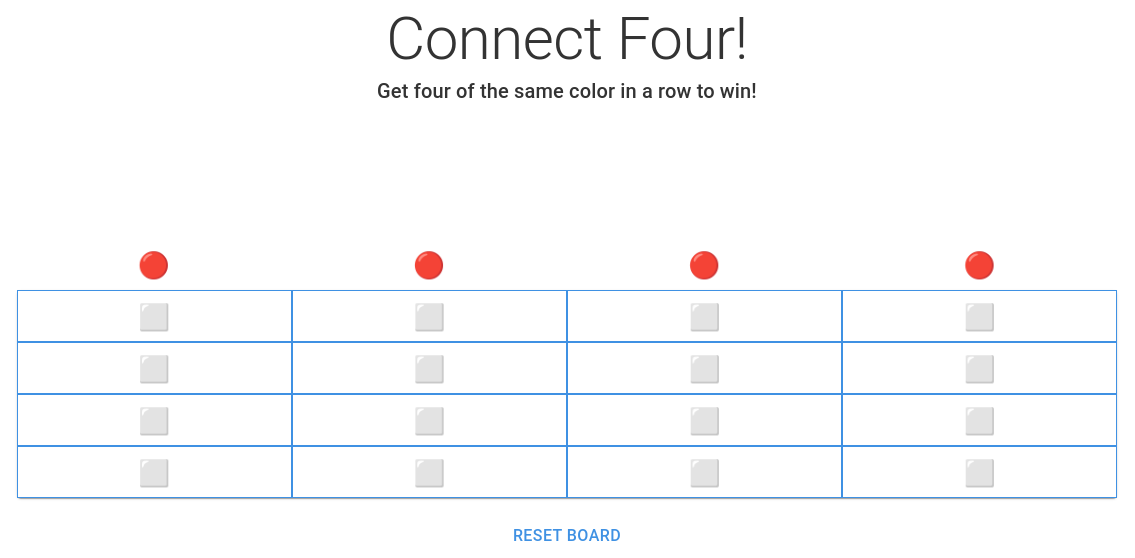
Test: App › disables drop buttons in full columns
The image size is (1135, 558).
Click the 1st button "🔴" at (154, 265), box [17, 240, 292, 290]
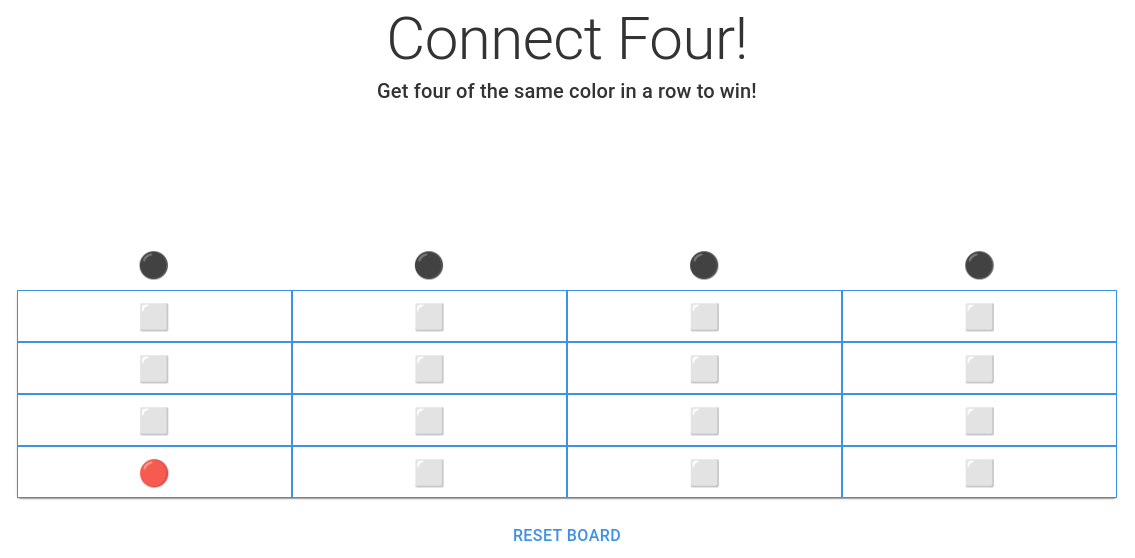
Click the 1st button "⚫" at (154, 265), box [17, 240, 292, 290]
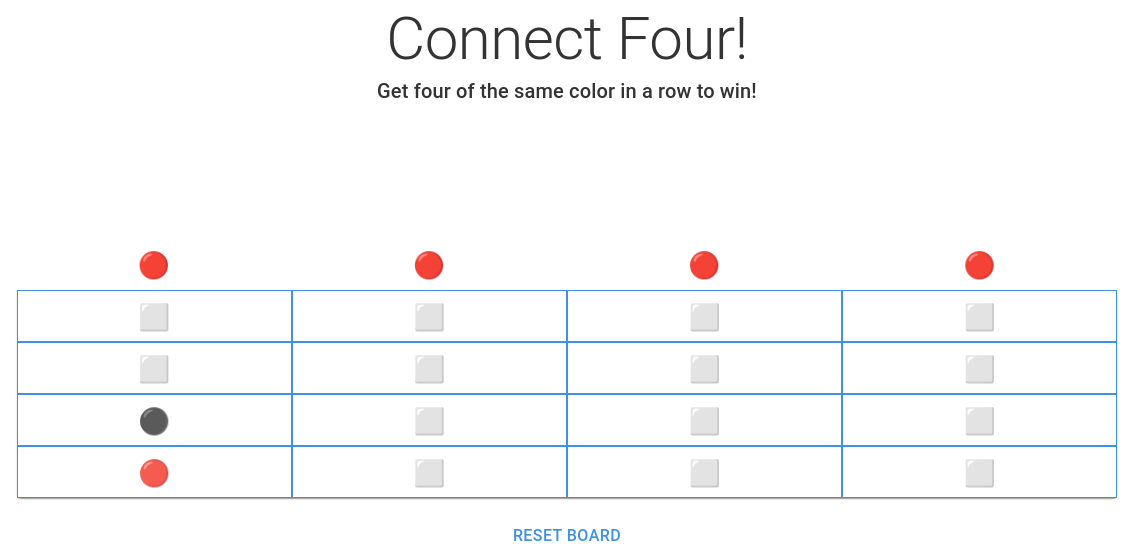
Click the 1st button "🔴" at (154, 265), box [17, 240, 292, 290]
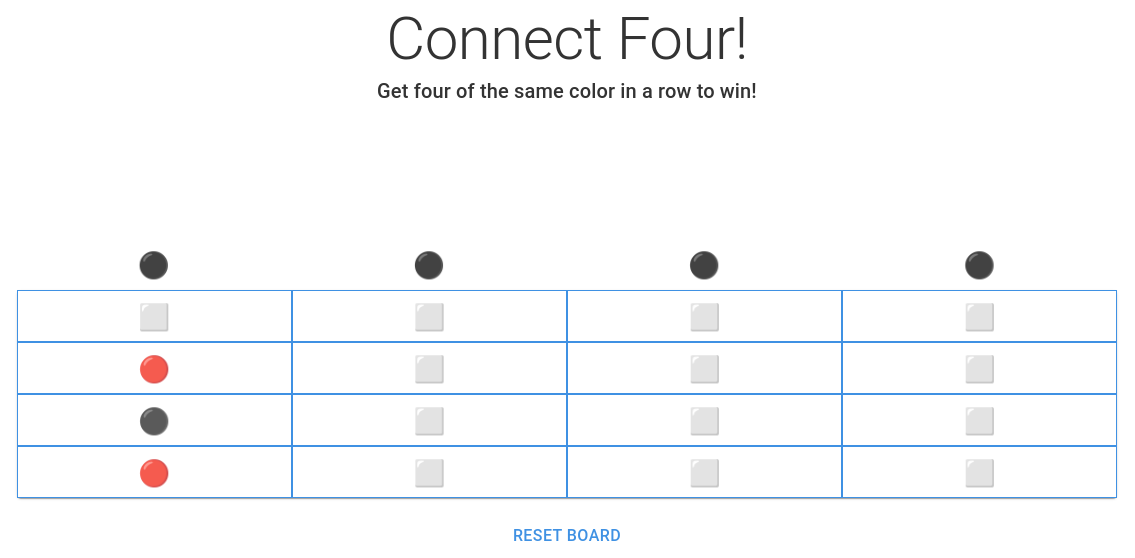
Click the 1st button "⚫" at (154, 265), box [17, 240, 292, 290]
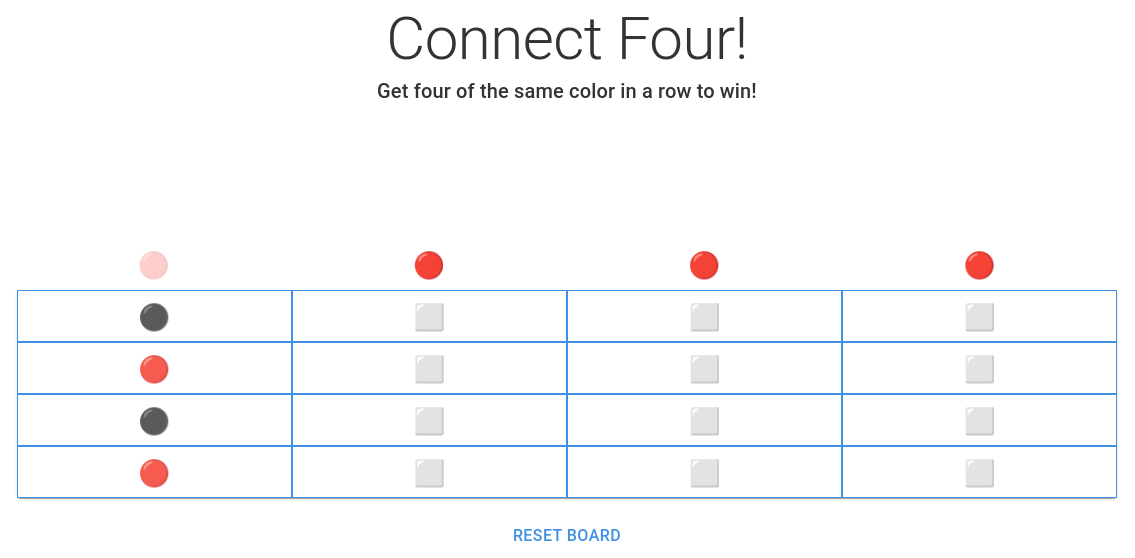
Expected: the 1st button "🔴" is disabled, [17, 240, 292, 290]
